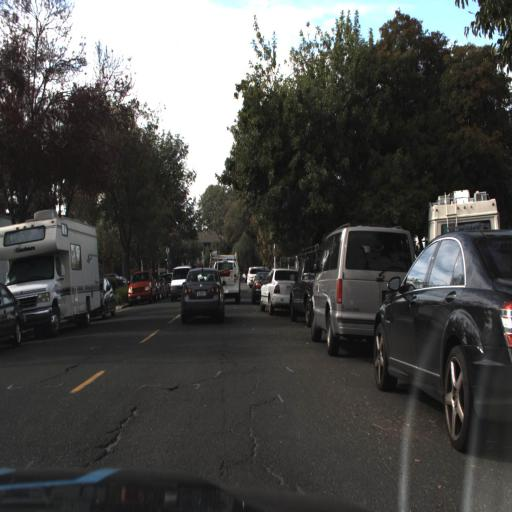car: (371, 227, 511, 454), (308, 224, 417, 356), (2, 212, 104, 333), (425, 187, 504, 240), (179, 265, 226, 323), (289, 243, 318, 327), (209, 244, 242, 310), (258, 265, 298, 317), (97, 271, 119, 324), (124, 271, 155, 308), (167, 259, 188, 305), (249, 268, 266, 307)
truck: (0, 215, 100, 327), (424, 192, 505, 240), (206, 251, 242, 302)
